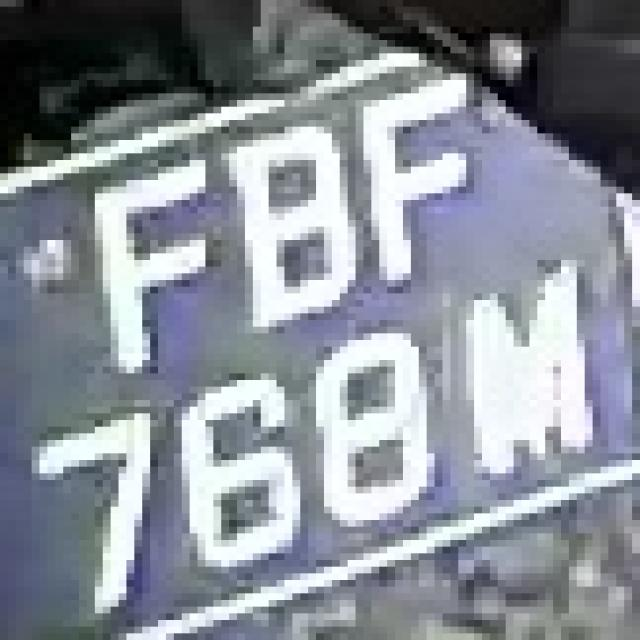6: (166, 367, 324, 560)
7: (16, 414, 166, 614)
8: (300, 320, 450, 527)
B: (221, 114, 379, 334)
F: (340, 53, 498, 300), (64, 147, 214, 393)
M: (434, 240, 608, 513)
